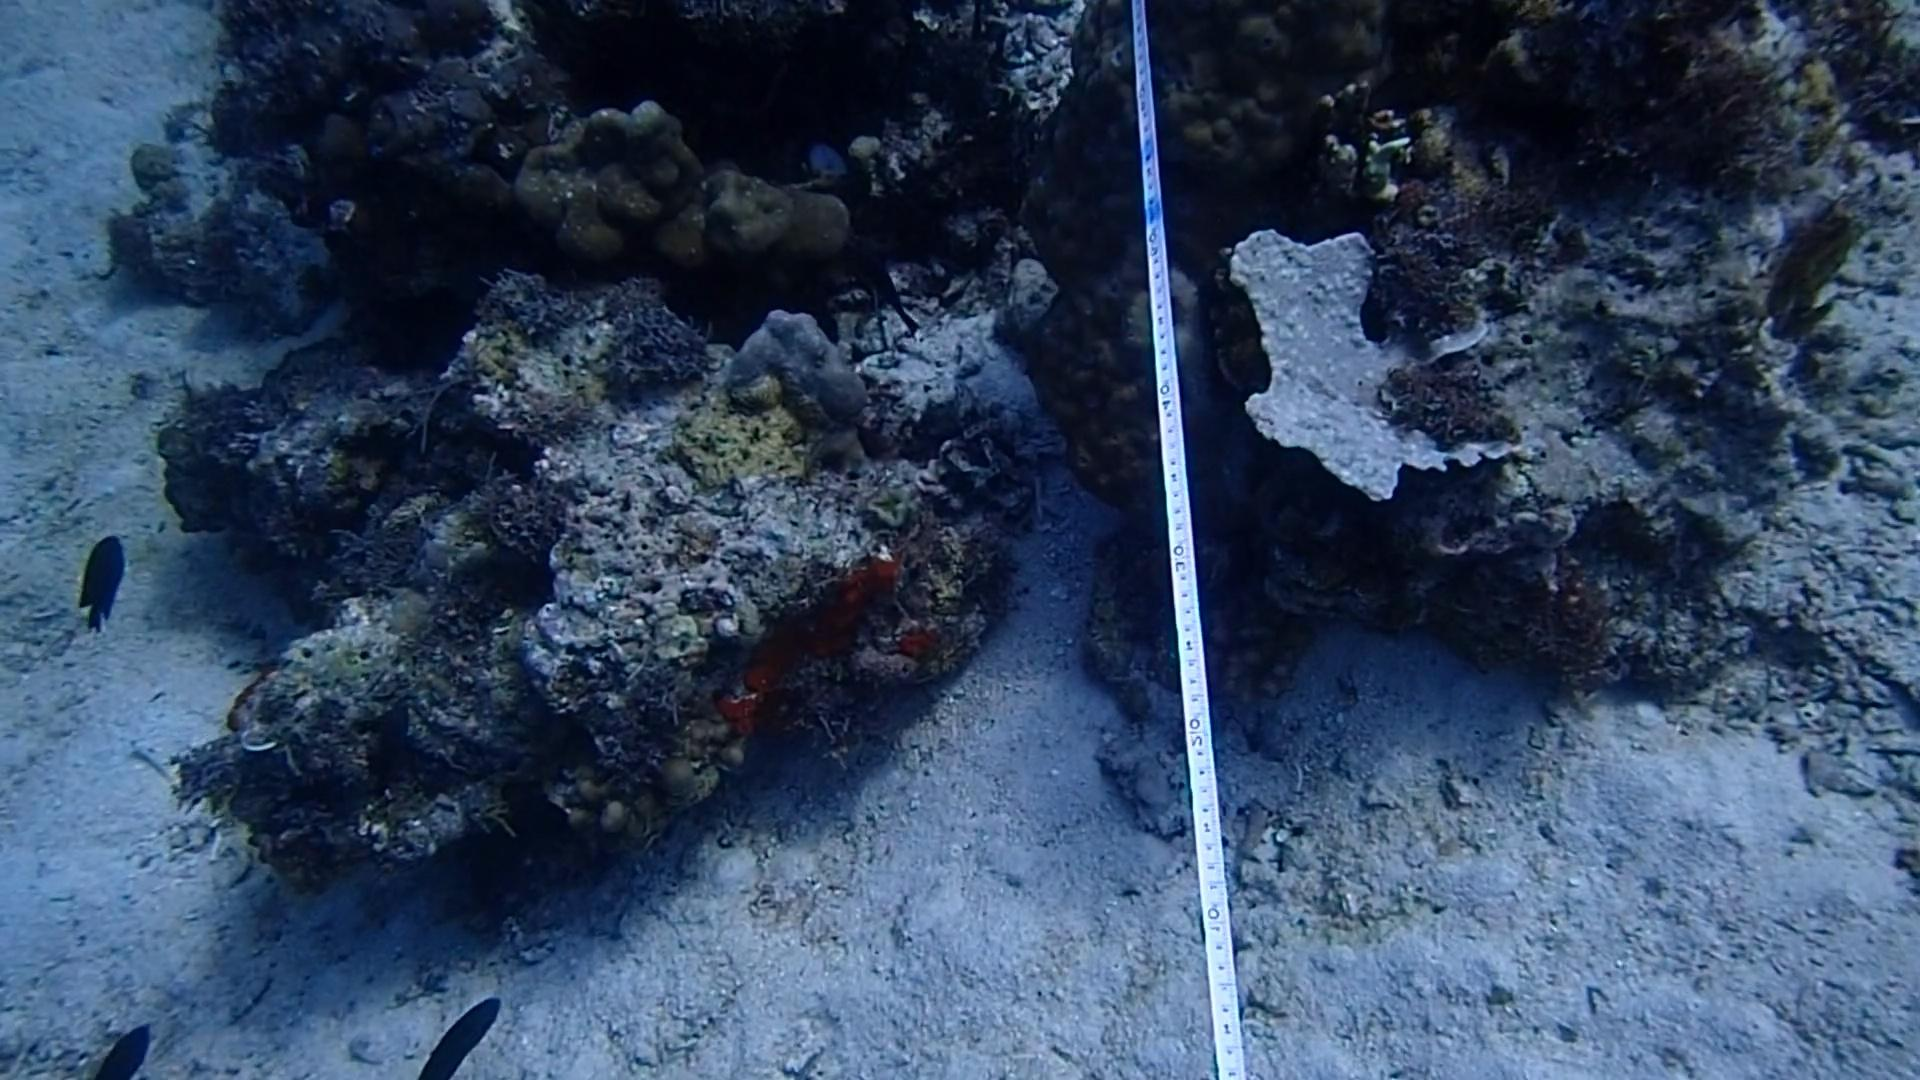Dark Fish: (59, 524, 140, 651), (419, 988, 509, 1080), (99, 1007, 169, 1080)
